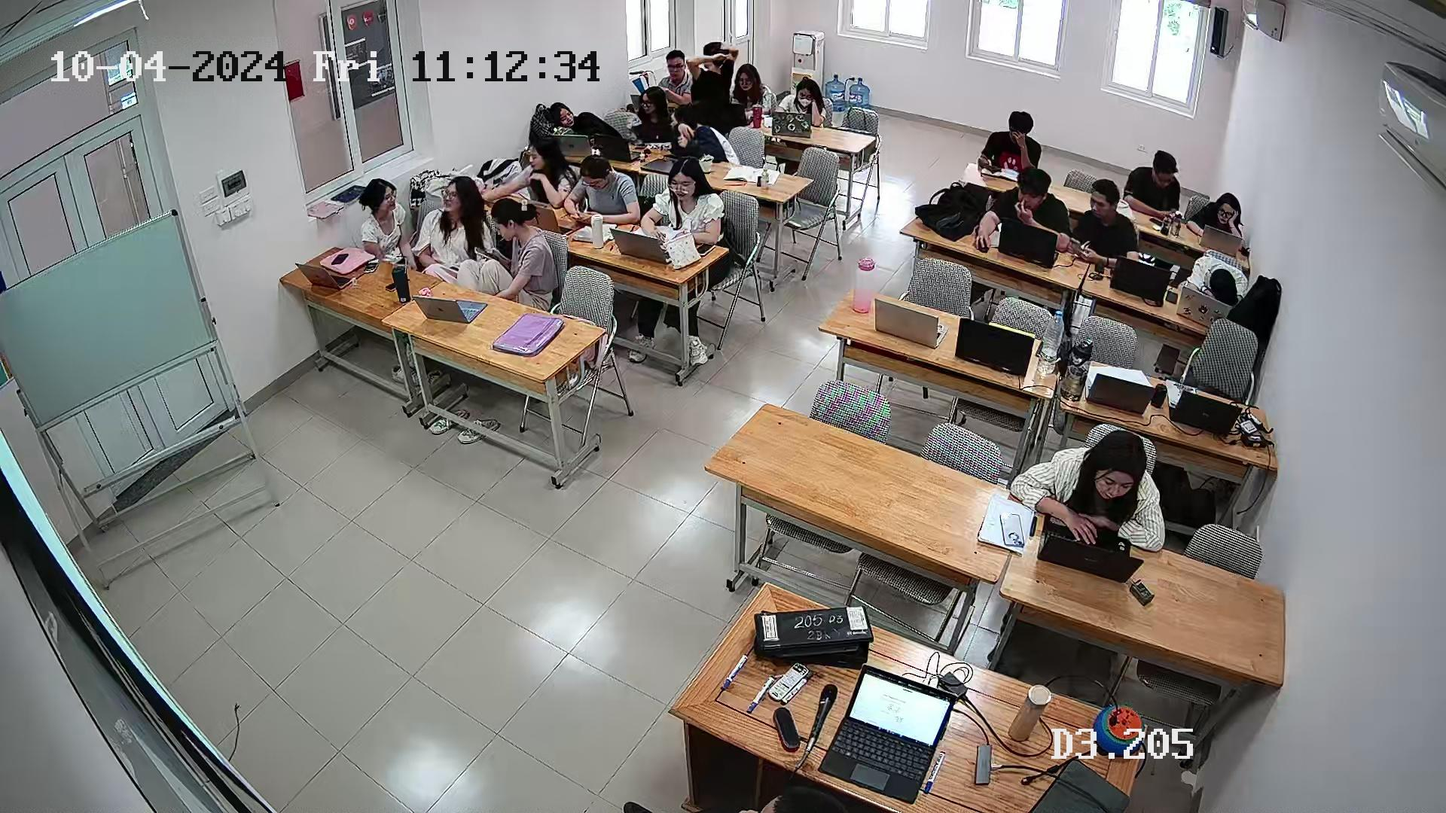Bend Over The Desk: (1193, 255, 1244, 319)
Look Around: (357, 172, 400, 259)
Stand Up: (695, 39, 735, 129)
phone: (474, 240, 500, 263), (572, 206, 597, 226)
